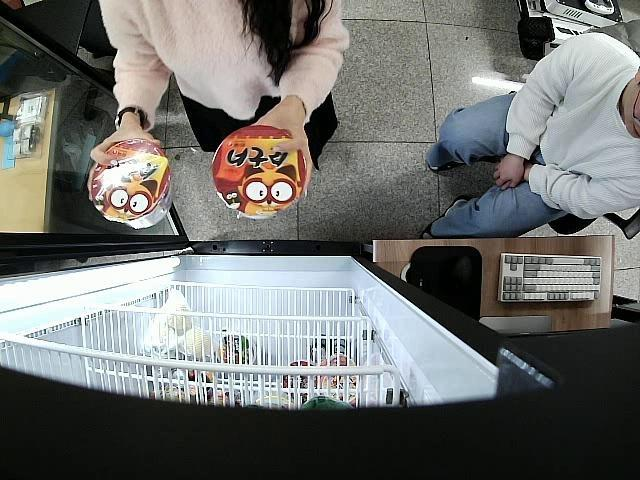05_nuguri_L: (212, 125, 309, 220), (90, 140, 172, 228)
